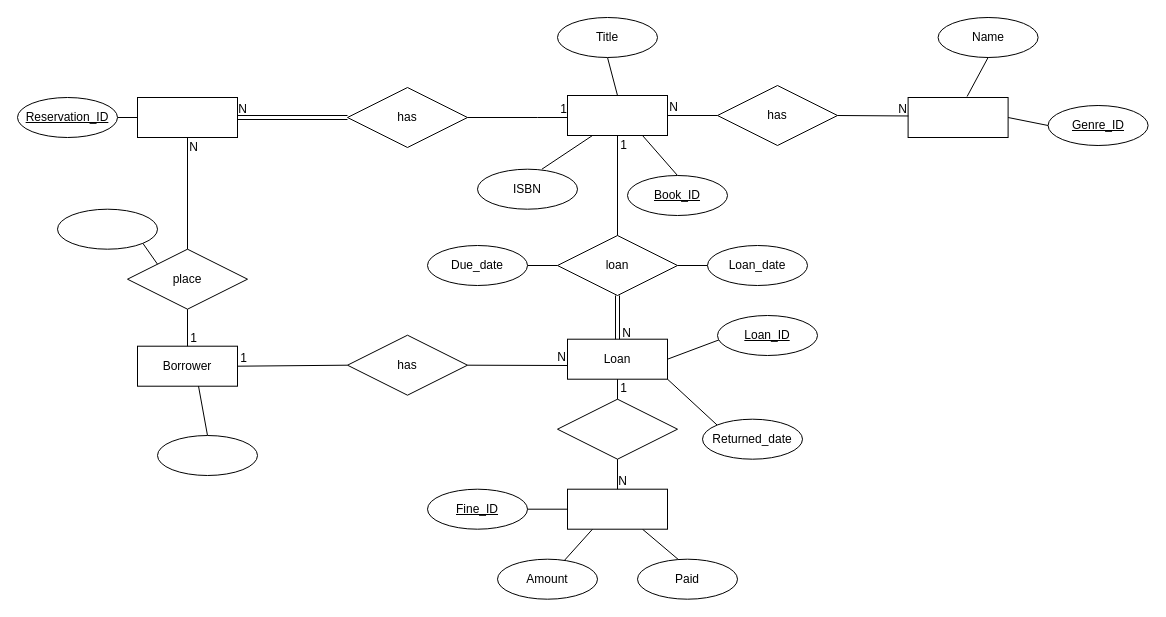
The diagram is 1166 pixels wide and 617 high, and some of its shapes have lost their labels. The shapes that lost their labels are listed below. From the top down, each one's centre as x and y in pixels, then its label:
At [187,117]: "Reservation".
At [617,115]: "Book".
At [957,117]: "Genre".
At [107,228]: "Reservation_date".
At [617,428]: "credit".
At [207,455]: "Borrower_ID".
At [617,508]: "Fine".
